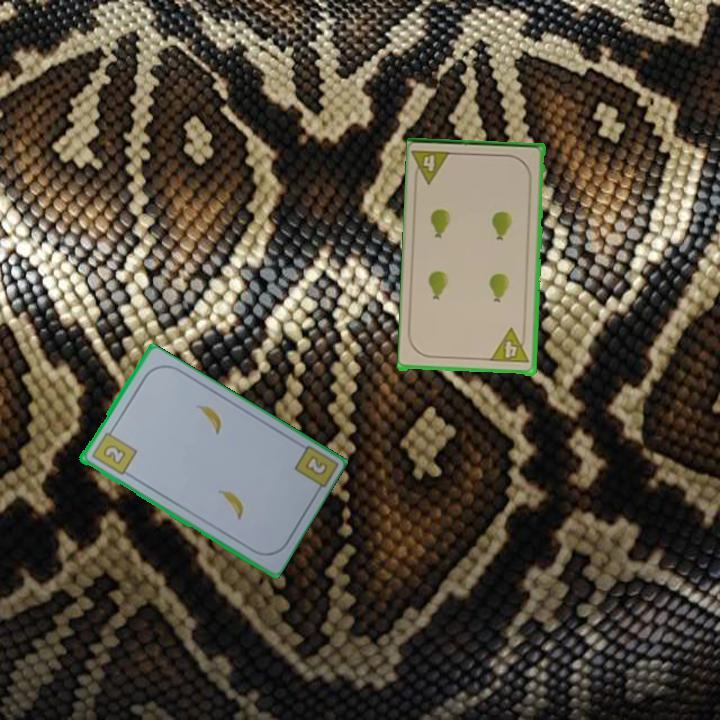2b: (88, 425, 139, 478), (301, 452, 330, 478)
4p: (410, 146, 455, 188), (488, 326, 532, 367)
